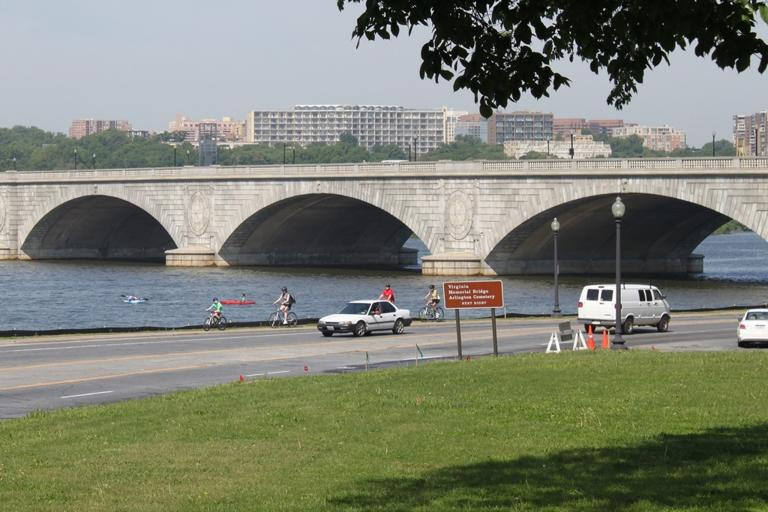non-vehicle: (265, 301, 296, 329), (416, 298, 444, 321), (202, 309, 226, 331)
